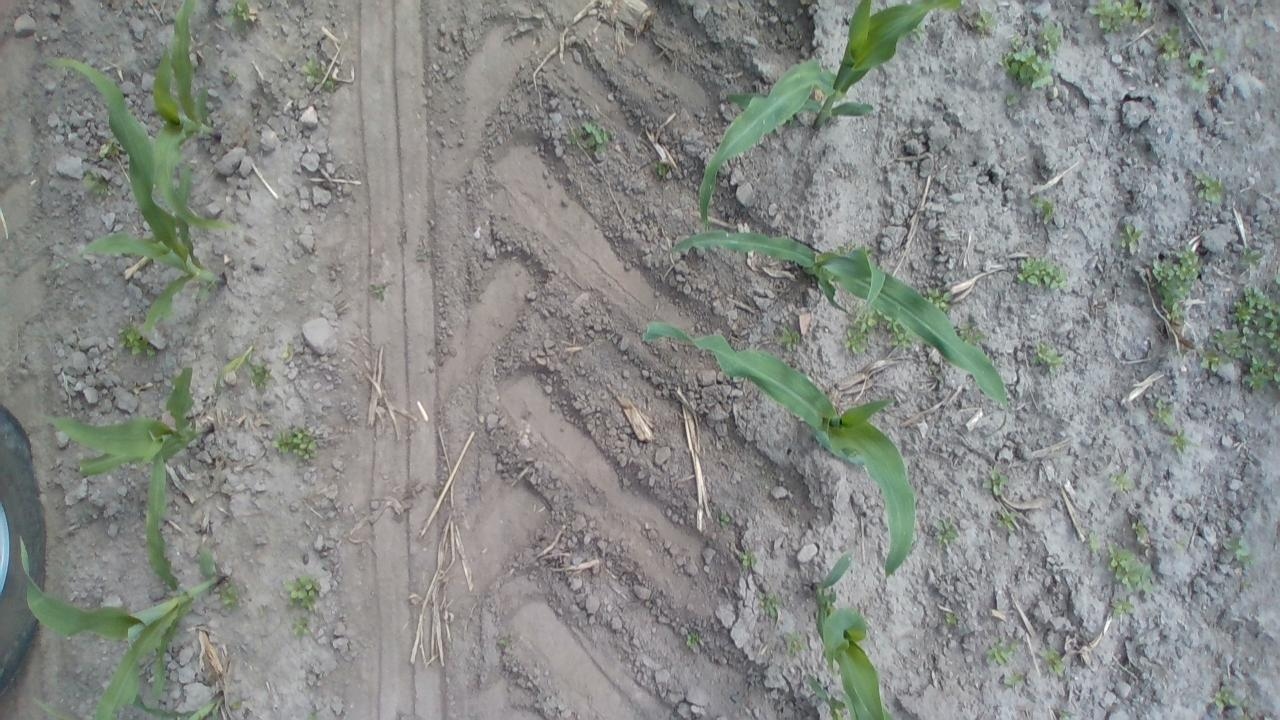Maize: (642, 314, 916, 574), (698, 0, 968, 229), (669, 228, 1012, 408), (38, 52, 226, 339), (19, 538, 230, 720), (49, 368, 210, 589), (139, 0, 246, 236), (791, 551, 910, 720)
Weeds: (1215, 288, 1280, 390), (1098, 542, 1168, 606), (1142, 257, 1208, 320), (1001, 44, 1061, 97), (268, 421, 324, 462), (109, 322, 160, 358), (282, 576, 326, 614), (1014, 253, 1066, 284), (1149, 405, 1186, 448), (1030, 11, 1062, 60), (1093, 2, 1154, 27), (584, 110, 616, 156), (1183, 52, 1217, 90), (1188, 169, 1227, 202), (841, 318, 873, 356), (299, 64, 334, 98), (926, 519, 961, 552), (981, 466, 1015, 498), (1212, 680, 1246, 712), (752, 593, 788, 622), (779, 322, 809, 356), (224, 0, 262, 26), (881, 312, 908, 348), (283, 612, 320, 638), (1036, 646, 1070, 674), (243, 359, 271, 390), (1108, 474, 1142, 494), (84, 168, 110, 194), (956, 322, 984, 346), (966, 9, 998, 30), (1127, 519, 1159, 540), (786, 632, 811, 658), (1033, 347, 1067, 366), (925, 288, 951, 310), (1110, 598, 1136, 620), (988, 511, 1014, 532), (1122, 225, 1139, 255), (1040, 202, 1064, 223), (1160, 34, 1178, 61), (993, 645, 1017, 664), (1003, 674, 1029, 691), (735, 548, 753, 572), (223, 584, 240, 608), (713, 511, 735, 527), (686, 627, 700, 649), (943, 614, 959, 630)
